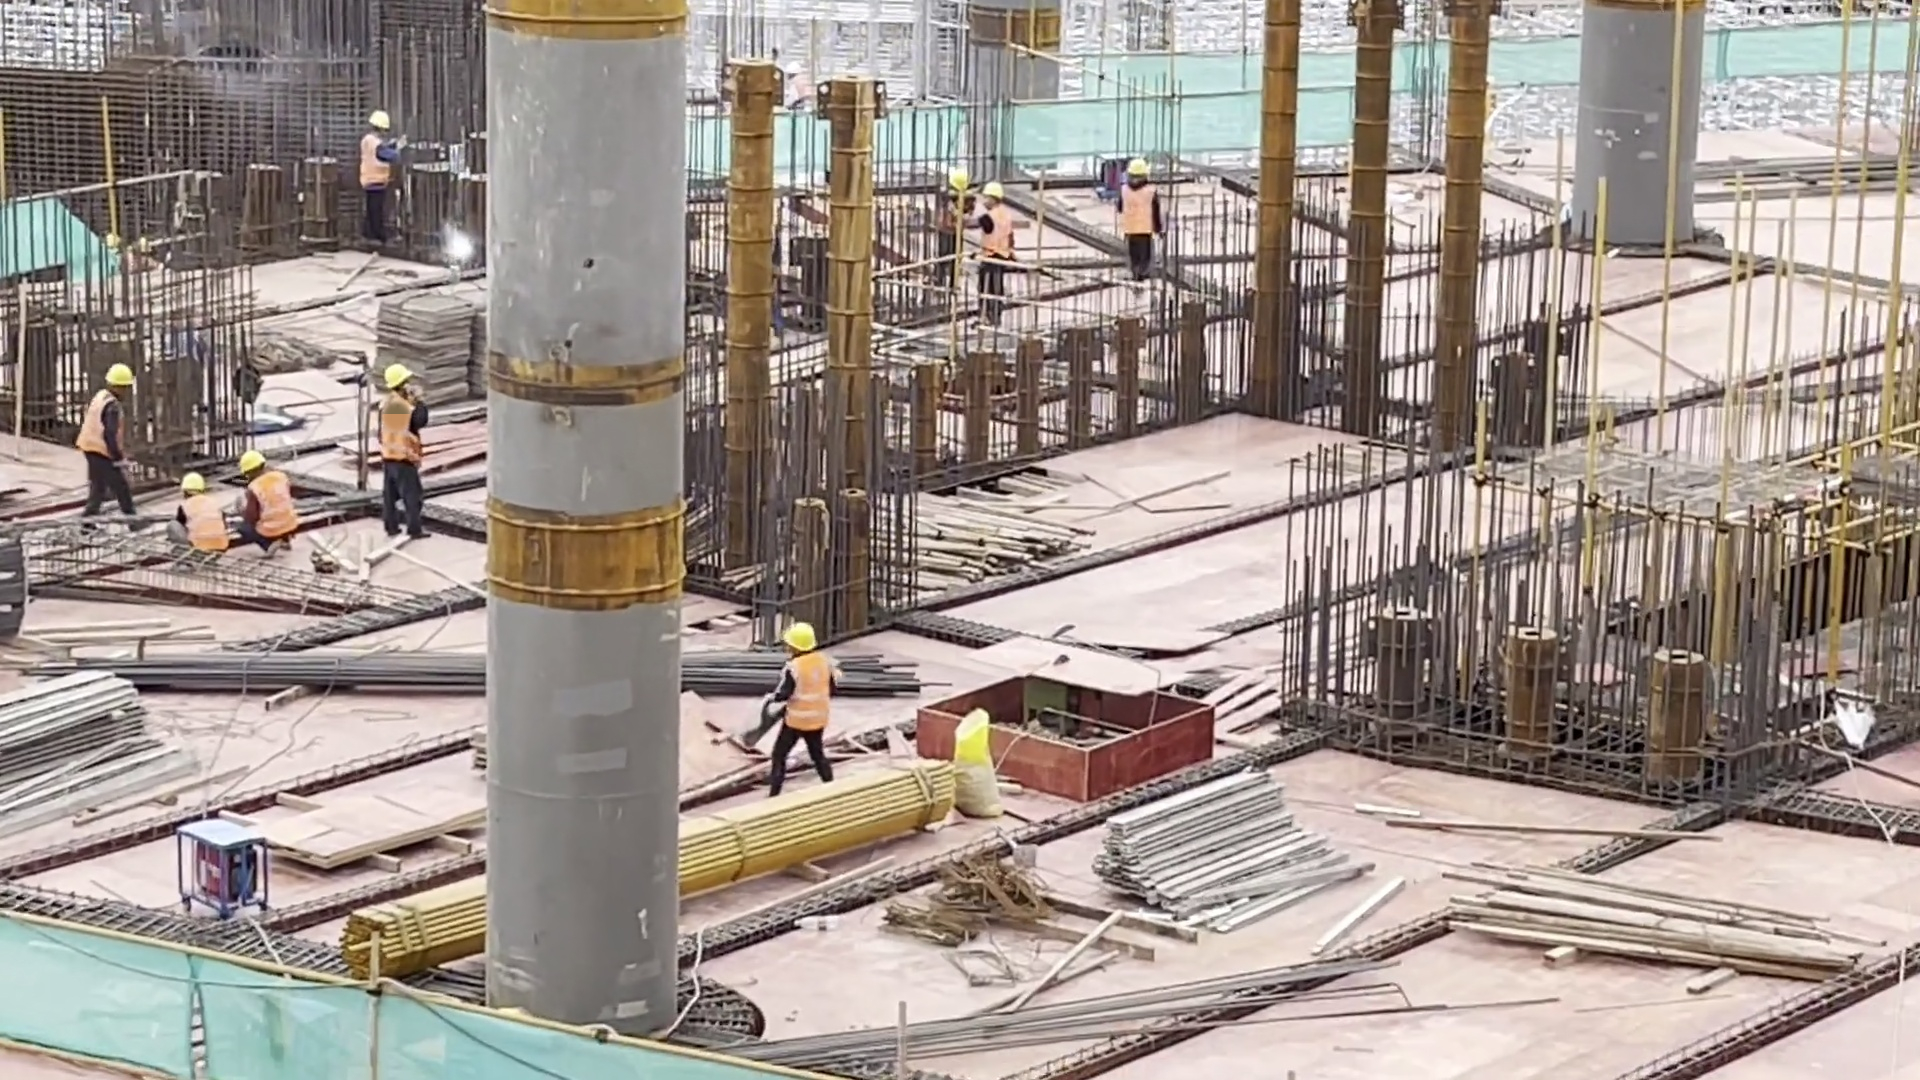helmet: (780, 623, 817, 653), (384, 362, 415, 389), (237, 450, 267, 478), (103, 363, 135, 386), (369, 104, 393, 131), (182, 471, 205, 492), (950, 169, 969, 191), (1127, 157, 1149, 176), (983, 182, 1005, 197)
person: (762, 621, 837, 797), (75, 359, 148, 523), (377, 363, 429, 537), (226, 448, 297, 556), (971, 172, 1011, 325), (1120, 159, 1164, 283), (358, 106, 398, 241), (928, 157, 968, 281), (173, 468, 226, 559)
vest: (784, 656, 831, 729), (251, 471, 297, 538), (380, 393, 425, 461), (78, 387, 119, 457), (181, 493, 227, 554), (1119, 182, 1162, 236), (979, 202, 1011, 260), (360, 134, 392, 191)
